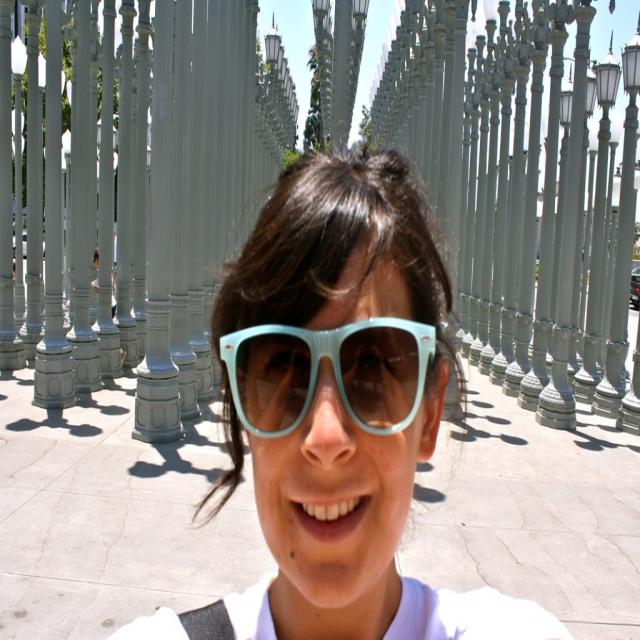Glasses: (214, 314, 440, 443)
